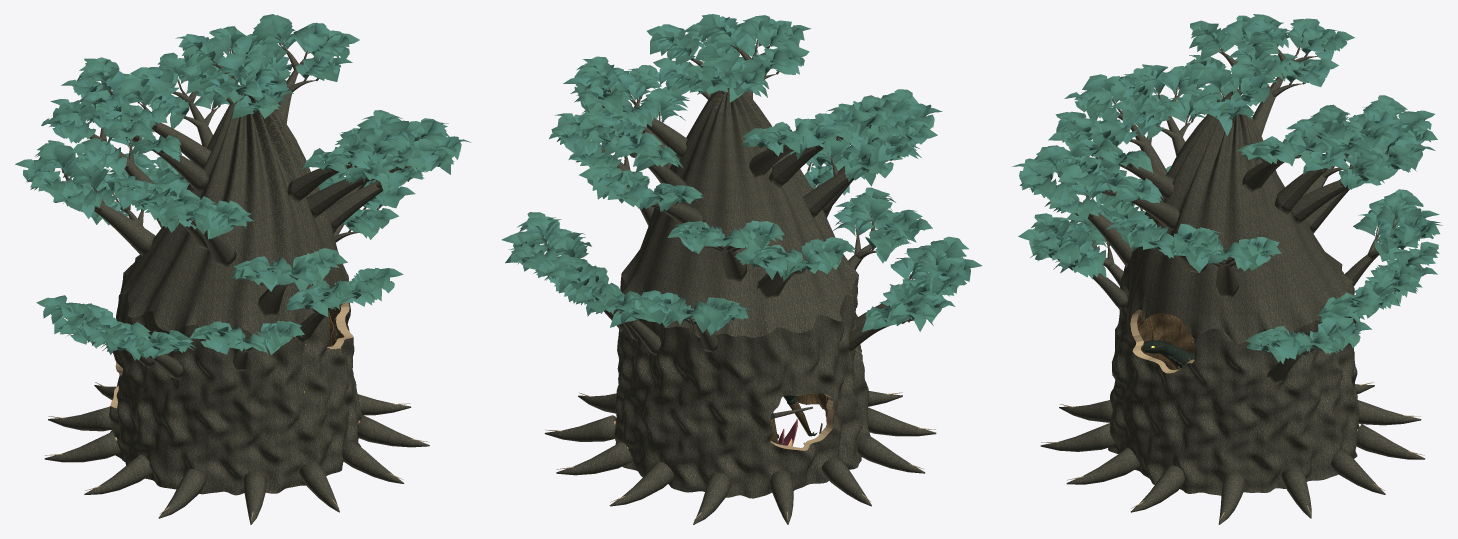
The model's file is vesper-canopy.glb.
3 views of the same model, side by side, from view 1: azimuth 30°, elevation 25°; view 2: azimuth 150°, elevation 25°; view 3: azimuth 270°, elevation 25° (orthographic).
Visible parts, largest first — view 1: hero_hollow | Vesper | ridged indigo bark, Connected hollow leaves, Connected hollow wood, hero_hollow | Vesper | exposed ivory sapwood; view 2: hero_hollow | Vesper | ridged indigo bark, Connected hollow leaves, Connected hollow wood, hero_hollow | Vesper | exposed ivory sapwood; view 3: hero_hollow | Vesper | ridged indigo bark, Connected hollow leaves, Connected hollow wood, hero_hollow | Vesper | shadowed cambium, hero_hollow | Vesper | exposed ivory sapwood.
Boxes of the visible parts, left/top/right/bottom form: hero_hollow | Vesper | ridged indigo bark: left=44, top=85, right=429, bottom=524; Connected hollow leaves: left=15, top=14, right=471, bottom=360; Connected hollow wood: left=61, top=43, right=438, bottom=379; hero_hollow | Vesper | exposed ivory sapwood: left=45, top=302, right=429, bottom=520; hero_hollow | Vesper | ridged indigo bark: left=544, top=88, right=936, bottom=524; Connected hollow leaves: left=501, top=14, right=982, bottom=335; Connected hollow wood: left=542, top=39, right=917, bottom=355; hero_hollow | Vesper | exposed ivory sapwood: left=545, top=392, right=935, bottom=520; hero_hollow | Vesper | ridged indigo bark: left=1040, top=91, right=1425, bottom=524; Connected hollow leaves: left=1011, top=14, right=1442, bottom=364; Connected hollow wood: left=1057, top=41, right=1424, bottom=384; hero_hollow | Vesper | shadowed cambium: left=1137, top=311, right=1194, bottom=369; hero_hollow | Vesper | exposed ivory sapwood: left=1041, top=309, right=1424, bottom=520.
Bounding box in the file's own units: 690 × 694 × 667.
Materials: 12 (5 with a texture image).
